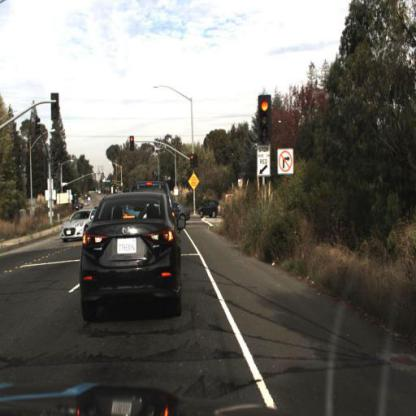car: (79, 191, 186, 328), (58, 209, 94, 246), (61, 210, 99, 242), (197, 199, 227, 224)
trafficLight-Red: (257, 91, 273, 150), (129, 136, 137, 155), (189, 153, 196, 171)
